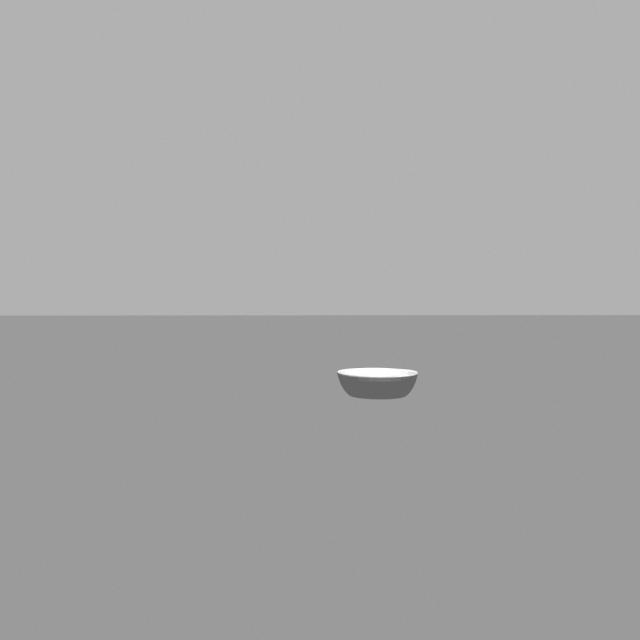bowl: (333, 348, 416, 405)
